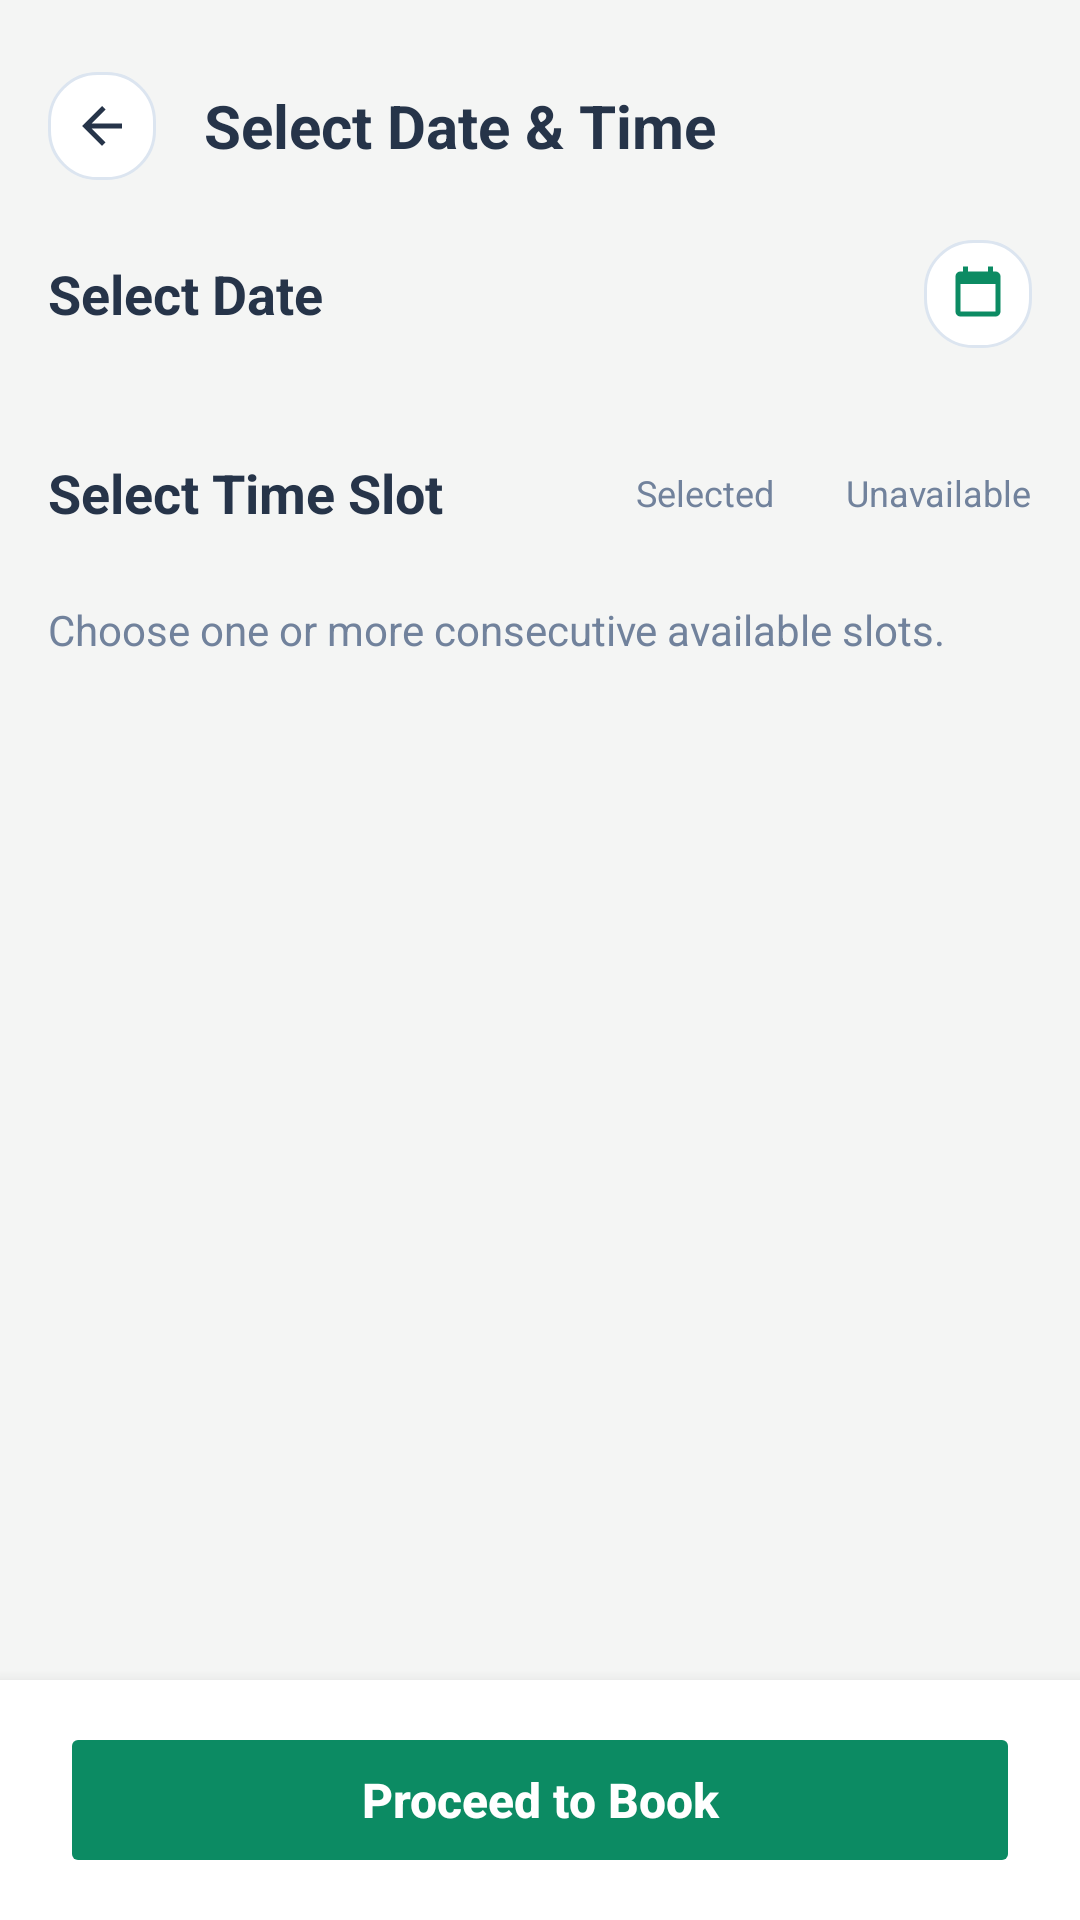

Point at icon controls on the screen. Image size 1080*1920, points as point (x, y).
Back: point (102, 126)
Full Calendar: point (978, 291)
